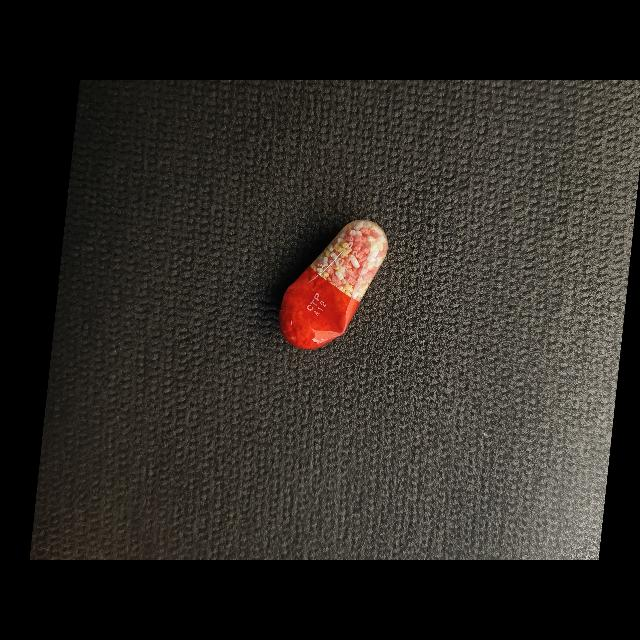Defective Capsule: (280, 220, 388, 349)
